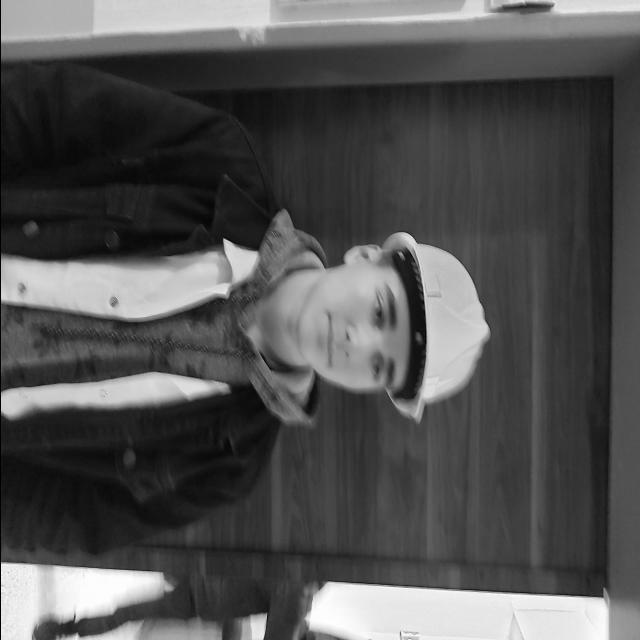construction helmet: (378, 232, 488, 422)
